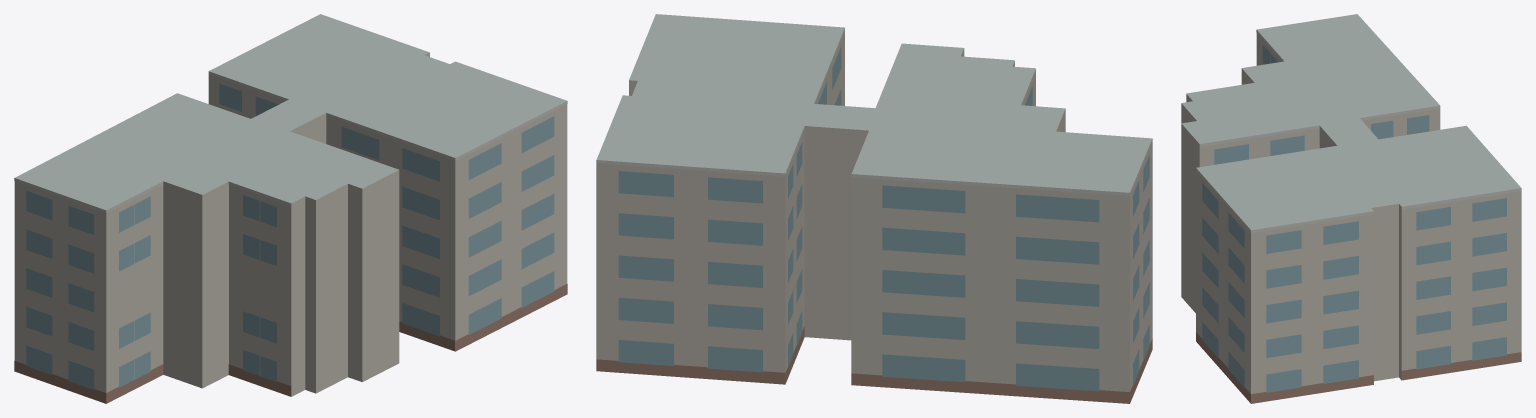
The model's file is survey-upis-32663998.glb.
The picture shows the model from 3 angles, left to right: view 1: azimuth 30°, elevation 25°; view 2: azimuth 150°, elevation 25°; view 3: azimuth 270°, elevation 25°; orthographic projection. The views are drawn at different scales.
Visible parts, largest first — view 1: survey-upis-32663998.tmp; view 2: survey-upis-32663998.tmp; view 3: survey-upis-32663998.tmp.
Part boxes in pixels (left/top/right/bottom): survey-upis-32663998.tmp: left=14, top=14, right=567, bottom=403; survey-upis-32663998.tmp: left=596, top=14, right=1152, bottom=403; survey-upis-32663998.tmp: left=1181, top=14, right=1521, bottom=403.
Bounding box in the file's own units: 40.73 × 15.25 × 27.08.
